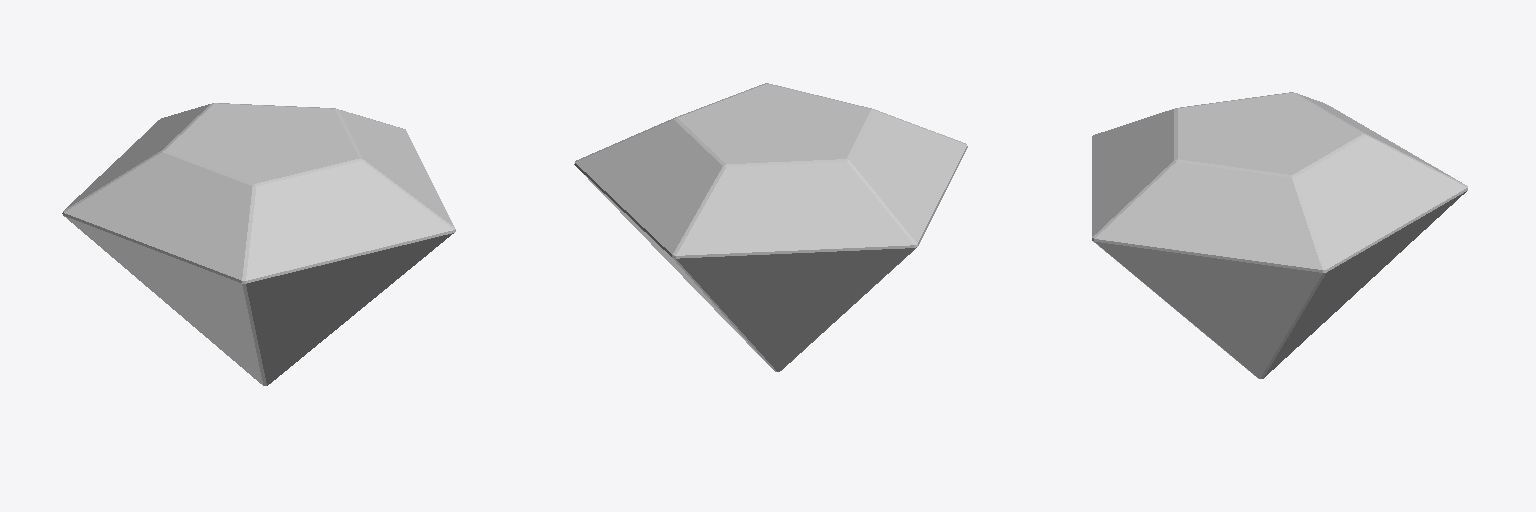
File: 5-table-cut.obj
The picture shows the model from 3 angles: view 1: azimuth 30°, elevation 25°; view 2: azimuth 150°, elevation 25°; view 3: azimuth 270°, elevation 25°; orthographic projection.
Visible parts, largest first — view 1: gem_Cylinder; view 2: gem_Cylinder; view 3: gem_Cylinder.
Boxes of the visible parts, x1,y1,x2,y2 form: gem_Cylinder: [62, 103, 455, 385]; gem_Cylinder: [574, 83, 967, 371]; gem_Cylinder: [1092, 92, 1467, 378].
Size of the model in its own units: 18.81 by 12.81 by 17.89.